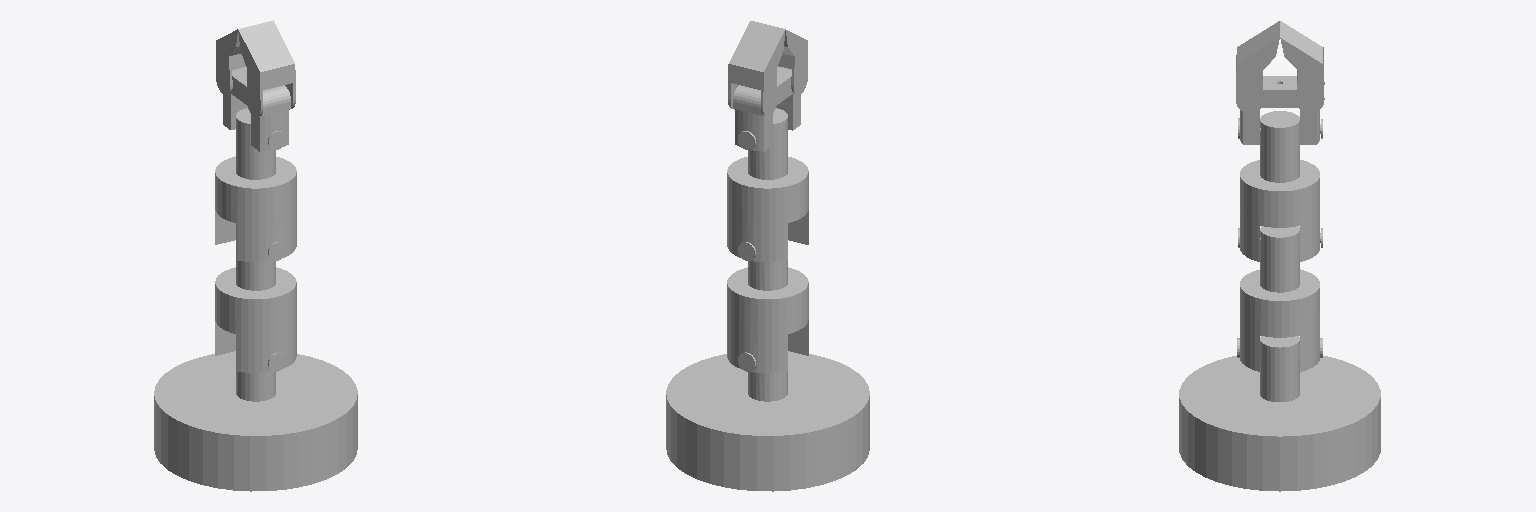
URDF robot description (Assem1):
<?xml version="1.0" encoding="utf-8"?>
<!-- This URDF was automatically created by SolidWorks to URDF Exporter! Originally created by [author] ([email redacted]) 
     Commit Version: 1.6.0-1-g15f4949  Build Version: 1.6.7594.29634
     For more information, please see http://wiki.ros.org/sw_urdf_exporter -->
<robot
  name="Assem1">
  <link
    name="base_link">
    <inertial>
      <origin
        xyz="-9.92715260566768E-19 4.5301621524614E-21 0.0148286242957548"
        rpy="0 0 0" />
      <mass
        value="0.231383168405501" />
      <inertia
        ixx="0.000164370008059259"
        ixy="-3.52319155933024E-36"
        ixz="-6.07448583878214E-22"
        iyy="0.000164370008059259"
        iyz="-1.79636573970476E-25"
        izz="0.000294219996110724" />
    </inertial>
    <visual>
      <origin
        xyz="0 0 0"
        rpy="0 0 0" />
      <geometry>
        <mesh
          filename="package://Assem1/meshes/base_link.STL" />
      </geometry>
      <material
        name="">
        <color
          rgba="0.8 0.8 0.8 1" />
      </material>
    </visual>
    <collision>
      <origin
        xyz="0 0 0"
        rpy="0 0 0" />
      <geometry>
        <mesh
          filename="package://Assem1/meshes/base_link.STL" />
      </geometry>
    </collision>
  </link>
  <link
    name="arm_link_1">
    <inertial>
      <origin
        xyz="-5.60895538554123E-09 -1.01899977622507E-08 0.0192339642636667"
        rpy="0 0 0" />
      <mass
        value="0.0140610830015761" />
      <inertia
        ixx="2.64199583654349E-06"
        ixy="-5.18872964282466E-13"
        ixz="1.08139937947948E-12"
        iyy="2.48798144308851E-06"
        iyz="1.16877062647888E-12"
        izz="9.16890421104533E-07" />
    </inertial>
    <visual>
      <origin
        xyz="0 0 0"
        rpy="0 0 0" />
      <geometry>
        <mesh
          filename="package://Assem1/meshes/arm_link_1.STL" />
      </geometry>
      <material
        name="">
        <color
          rgba="0.8 0.8 0.8 1" />
      </material>
    </visual>
    <collision>
      <origin
        xyz="0 0 0"
        rpy="0 0 0" />
      <geometry>
        <mesh
          filename="package://Assem1/meshes/arm_link_1.STL" />
      </geometry>
    </collision>
  </link>
  <joint
    name="arm_joint_1"
    type="revolute">
    <origin
      xyz="0 0 0.02"
      rpy="0 0 0" />
    <parent
      link="base_link" />
    <child
      link="arm_link_1" />
    <axis
      xyz="0 0 1" />
    <limit
      lower="-1"
      upper="1"
      effort="1"
      velocity="1" />
  </joint>
  <link
    name="arm_link_2">
    <inertial>
      <origin
        xyz="-5.0014620059178E-05 -6.52787115090977E-09 0.018233822252808"
        rpy="0 0 0" />
      <mass
        value="0.0303323489567538" />
      <inertia
        ixx="6.34517628171626E-06"
        ixy="1.18095385780959E-12"
        ixz="-7.947631712951E-12"
        iyy="7.64042937703349E-06"
        iyz="-2.78091913206634E-12"
        izz="7.28884028444061E-06" />
    </inertial>
    <visual>
      <origin
        xyz="0 0 0"
        rpy="0 0 0" />
      <geometry>
        <mesh
          filename="package://Assem1/meshes/arm_link_2.STL" />
      </geometry>
      <material
        name="">
        <color
          rgba="0.8 0.8 0.8 1" />
      </material>
    </visual>
    <collision>
      <origin
        xyz="0 0 0"
        rpy="0 0 0" />
      <geometry>
        <mesh
          filename="package://Assem1/meshes/arm_link_2.STL" />
      </geometry>
    </collision>
  </link>
  <joint
    name="arm_joint_2"
    type="revolute">
    <origin
      xyz="0 0 0.035"
      rpy="0 0 -1.5708" />
    <parent
      link="arm_link_1" />
    <child
      link="arm_link_2" />
    <axis
      xyz="1 0 0" />
    <limit
      lower="-1"
      upper="1"
      effort="1"
      velocity="1" />
  </joint>
  <link
    name="arm_link_3">
    <inertial>
      <origin
        xyz="-5.60895235840544E-09 -1.01899984118281E-08 0.0192339642636681"
        rpy="0 0 0" />
      <mass
        value="0.0140610830015761" />
      <inertia
        ixx="2.64199583654348E-06"
        ixy="-5.18872964262511E-13"
        ixz="1.08139937946118E-12"
        iyy="2.48798144308851E-06"
        iyz="1.1687706243988E-12"
        izz="9.16890421104533E-07" />
    </inertial>
    <visual>
      <origin
        xyz="0 0 0"
        rpy="0 0 0" />
      <geometry>
        <mesh
          filename="package://Assem1/meshes/arm_link_3.STL" />
      </geometry>
      <material
        name="">
        <color
          rgba="0.8 0.8 0.8 1" />
      </material>
    </visual>
    <collision>
      <origin
        xyz="0 0 0"
        rpy="0 0 0" />
      <geometry>
        <mesh
          filename="package://Assem1/meshes/arm_link_3.STL" />
      </geometry>
    </collision>
  </link>
  <joint
    name="arm_joint_3"
    type="revolute">
    <origin
      xyz="-5E-05 0 0.025"
      rpy="0 0 -1.5708" />
    <parent
      link="arm_link_2" />
    <child
      link="arm_link_3" />
    <axis
      xyz="0 0 1" />
    <limit
      lower="-1"
      upper="1"
      effort="1"
      velocity="1" />
  </joint>
  <link
    name="arm_link_4">
    <inertial>
      <origin
        xyz="-1.46200586445764E-08 -6.52786858085809E-09 0.0182338222528074"
        rpy="0 0 0" />
      <mass
        value="0.0303323489567538" />
      <inertia
        ixx="6.34517628171626E-06"
        ixy="1.18095385093884E-12"
        ixz="-7.9476311738493E-12"
        iyy="7.64042937729006E-06"
        iyz="-2.78091913182283E-12"
        izz="7.28884028469719E-06" />
    </inertial>
    <visual>
      <origin
        xyz="0 0 0"
        rpy="0 0 0" />
      <geometry>
        <mesh
          filename="package://Assem1/meshes/arm_link_4.STL" />
      </geometry>
      <material
        name="">
        <color
          rgba="0.8 0.8 0.8 1" />
      </material>
    </visual>
    <collision>
      <origin
        xyz="0 0 0"
        rpy="0 0 0" />
      <geometry>
        <mesh
          filename="package://Assem1/meshes/arm_link_4.STL" />
      </geometry>
    </collision>
  </link>
  <joint
    name="arm_joint_4"
    type="revolute">
    <origin
      xyz="0 0 0.035"
      rpy="0 0 -1.5708" />
    <parent
      link="arm_link_3" />
    <child
      link="arm_link_4" />
    <axis
      xyz="1 0 0" />
    <limit
      lower="-1"
      upper="1"
      effort="1"
      velocity="1" />
  </joint>
  <link
    name="arm_link_5">
    <inertial>
      <origin
        xyz="-5.60895198874681E-09 -1.01899979452959E-08 0.019233964263662"
        rpy="0 0 0" />
      <mass
        value="0.0140610830015761" />
      <inertia
        ixx="2.64199583654349E-06"
        ixy="-5.18872964360442E-13"
        ixz="1.08139938007546E-12"
        iyy="2.48798144308851E-06"
        iyz="1.16877062420833E-12"
        izz="9.16890421104533E-07" />
    </inertial>
    <visual>
      <origin
        xyz="0 0 0"
        rpy="0 0 0" />
      <geometry>
        <mesh
          filename="package://Assem1/meshes/arm_link_5.STL" />
      </geometry>
      <material
        name="">
        <color
          rgba="0.8 0.8 0.8 1" />
      </material>
    </visual>
    <collision>
      <origin
        xyz="0 0 0"
        rpy="0 0 0" />
      <geometry>
        <mesh
          filename="package://Assem1/meshes/arm_link_5.STL" />
      </geometry>
    </collision>
  </link>
  <joint
    name="arm_joint_5"
    type="revolute">
    <origin
      xyz="0 0 0.025"
      rpy="0 0 1.5708" />
    <parent
      link="arm_link_4" />
    <child
      link="arm_link_5" />
    <axis
      xyz="0 0 1" />
    <limit
      lower="-1"
      upper="1"
      effort="1"
      velocity="1" />
  </joint>
  <link
    name="arm_link_6">
    <inertial>
      <origin
        xyz="8.08586048392171E-09 -2.18002221616016E-08 0.0124494035067562"
        rpy="0 0 0" />
      <mass
        value="0.0116980114515868" />
      <inertia
        ixx="1.14743902060583E-06"
        ixy="1.72850259786646E-13"
        ixz="6.32004606156892E-13"
        iyy="2.8556525323782E-06"
        iyz="-2.52837230281094E-12"
        izz="2.27076825938645E-06" />
    </inertial>
    <visual>
      <origin
        xyz="0 0 0"
        rpy="0 0 0" />
      <geometry>
        <mesh
          filename="package://Assem1/meshes/arm_link_6.STL" />
      </geometry>
      <material
        name="">
        <color
          rgba="0.8 0.8 0.8 1" />
      </material>
    </visual>
    <collision>
      <origin
        xyz="0 0 0"
        rpy="0 0 0" />
      <geometry>
        <mesh
          filename="package://Assem1/meshes/arm_link_6.STL" />
      </geometry>
    </collision>
  </link>
  <joint
    name="arm_joint_6"
    type="revolute">
    <origin
      xyz="0 0 0.035"
      rpy="0 0 -1.5708" />
    <parent
      link="arm_link_5" />
    <child
      link="arm_link_6" />
    <axis
      xyz="1 0 0" />
    <limit
      lower="-1"
      upper="1"
      effort="1"
      velocity="1" />
  </joint>
  <link
    name="finger_1">
    <inertial>
      <origin
        xyz="-0.00162040456220071 0.0169262207376715 -6.08583685833206E-15"
        rpy="0 0 0" />
      <mass
        value="0.00633906704359022" />
      <inertia
        ixx="7.39090867848727E-07"
        ixy="1.4577371624417E-07"
        ixz="3.17008882138216E-23"
        iyy="3.94477630513247E-07"
        iyz="-1.89052091266422E-22"
        izz="6.53413408624237E-07" />
    </inertial>
    <visual>
      <origin
        xyz="0 0 0"
        rpy="0 0 0" />
      <geometry>
        <mesh
          filename="package://Assem1/meshes/finger_1.STL" />
      </geometry>
      <material
        name="">
        <color
          rgba="0.8 0.8 0.8 1" />
      </material>
    </visual>
    <collision>
      <origin
        xyz="0 0 0"
        rpy="0 0 0" />
      <geometry>
        <mesh
          filename="package://Assem1/meshes/finger_1.STL" />
      </geometry>
    </collision>
  </link>
  <joint
    name="finger_1_joint"
    type="revolute">
    <origin
      xyz="-0.015 5E-05 0.02"
      rpy="1.5708 -0.070924 3.1416" />
    <parent
      link="arm_link_6" />
    <child
      link="finger_1" />
    <axis
      xyz="0 0 1" />
    <limit
      lower="0"
      upper="0"
      effort="1"
      velocity="0" />
  </joint>
  <link
    name="finger_2">
    <inertial>
      <origin
        xyz="-0.00162040456220239 0.0169262207376717 6.11112587400528E-15"
        rpy="0 0 0" />
      <mass
        value="0.00633906704359023" />
      <inertia
        ixx="7.39090867848728E-07"
        ixy="1.4577371624417E-07"
        ixz="3.00223979116907E-23"
        iyy="3.94477630513248E-07"
        iyz="-1.22273401286368E-22"
        izz="6.53413408624239E-07" />
    </inertial>
    <visual>
      <origin
        xyz="0 0 0"
        rpy="0 0 0" />
      <geometry>
        <mesh
          filename="package://Assem1/meshes/finger_2.STL" />
      </geometry>
      <material
        name="">
        <color
          rgba="0.8 0.8 0.8 1" />
      </material>
    </visual>
    <collision>
      <origin
        xyz="0 0 0"
        rpy="0 0 0" />
      <geometry>
        <mesh
          filename="package://Assem1/meshes/finger_2.STL" />
      </geometry>
    </collision>
  </link>
  <joint
    name="finger_2_joint"
    type="revolute">
    <origin
      xyz="0.015 5E-05 0.02"
      rpy="1.5708 -0.070924 0" />
    <parent
      link="arm_link_6" />
    <child
      link="finger_2" />
    <axis
      xyz="0 0 1" />
    <limit
      lower="0"
      upper="0"
      effort="1"
      velocity="0" />
  </joint>
</robot>

--- Facts derived from the render (not from the file) ---
3 views of the same robot in one strip: view 1: azimuth 30°, elevation 25°; view 2: azimuth 150°, elevation 25°; view 3: azimuth 270°, elevation 25° (orthographic).
Robot: Assem1 — 9 links, 8 joints (8 revolute); root link base_link; default pose: every joint at zero.
Visible links, largest first — view 1: base_link, arm_link_4, arm_link_2, finger_1, arm_link_6, arm_link_5, arm_link_3, arm_link_1, finger_2; view 2: base_link, arm_link_4, arm_link_2, finger_2, arm_link_6, arm_link_5, arm_link_3, arm_link_1, finger_1; view 3: base_link, arm_link_2, arm_link_4, arm_link_5, arm_link_1, arm_link_3, finger_2, finger_1, arm_link_6.
Boxes of the visible links, x1=… form: base_link: x1=154, y1=351, x2=357, y2=491; arm_link_4: x1=215, y1=156, x2=296, y2=261; arm_link_2: x1=215, y1=267, x2=296, y2=372; finger_1: x1=238, y1=20, x2=295, y2=117; arm_link_6: x1=223, y1=66, x2=290, y2=151; arm_link_5: x1=236, y1=108, x2=285, y2=179; arm_link_3: x1=236, y1=242, x2=285, y2=290; arm_link_1: x1=236, y1=352, x2=285, y2=401; finger_2: x1=216, y1=29, x2=245, y2=94; base_link: x1=666, y1=351, x2=869, y2=491; arm_link_4: x1=727, y1=157, x2=808, y2=262; arm_link_2: x1=727, y1=267, x2=808, y2=372; finger_2: x1=728, y1=21, x2=785, y2=117; arm_link_6: x1=733, y1=66, x2=800, y2=151; arm_link_5: x1=738, y1=108, x2=787, y2=179; arm_link_3: x1=738, y1=242, x2=787, y2=290; arm_link_1: x1=738, y1=352, x2=787, y2=401; finger_1: x1=778, y1=30, x2=807, y2=94; base_link: x1=1179, y1=356, x2=1380, y2=491; arm_link_2: x1=1240, y1=269, x2=1319, y2=371; arm_link_4: x1=1240, y1=160, x2=1319, y2=261; arm_link_5: x1=1238, y1=111, x2=1322, y2=182; arm_link_1: x1=1237, y1=336, x2=1322, y2=401; arm_link_3: x1=1238, y1=226, x2=1322, y2=292; finger_2: x1=1280, y1=21, x2=1324, y2=112; finger_1: x1=1236, y1=21, x2=1279, y2=112; arm_link_6: x1=1240, y1=76, x2=1319, y2=144.
Size in the robot's own frame: 0.1 by 0.0997 by 0.2294 metres.
9 mesh visuals loaded from 9 distinct referenced files (9 binary STL).
